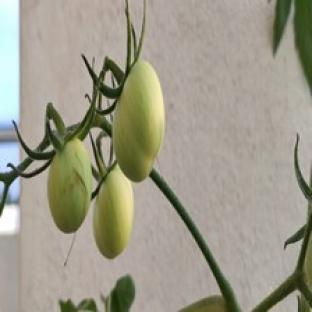Tomato: (113, 62, 164, 182), (48, 138, 91, 232), (94, 165, 133, 259), (180, 296, 228, 311)
